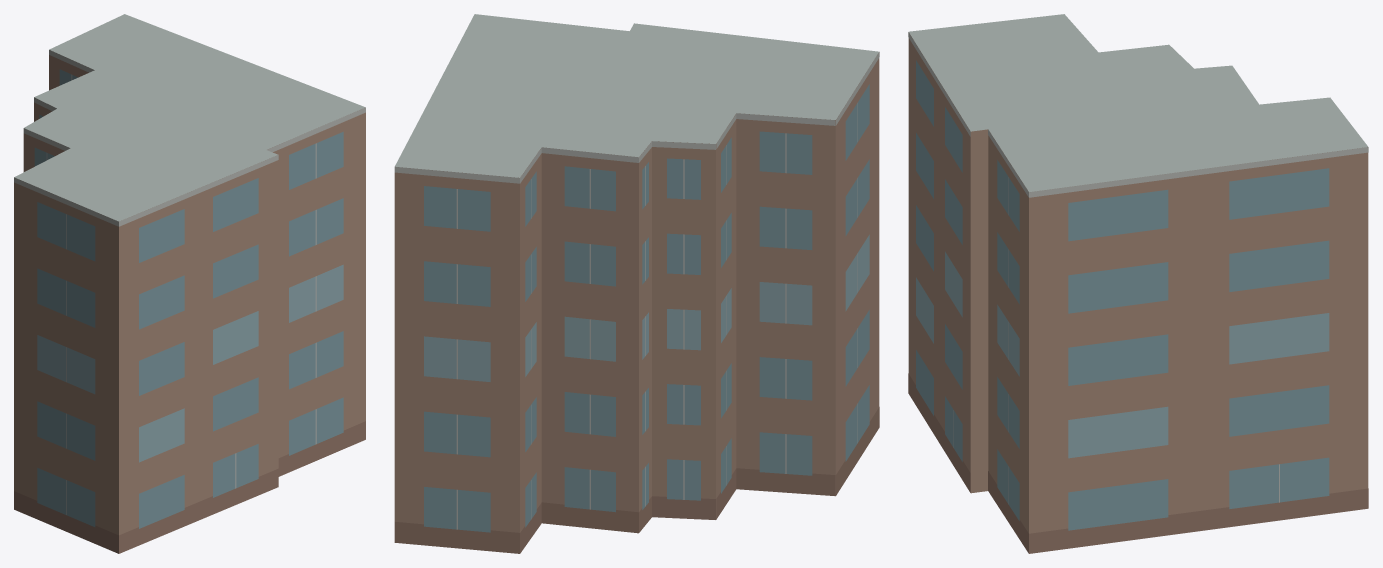
File: survey-upis-32906699.glb
3 views of the same model, side by side, from view 1: azimuth 30°, elevation 25°; view 2: azimuth 150°, elevation 25°; view 3: azimuth 270°, elevation 25° (orthographic). The views are drawn at different scales.
Visible parts, largest first — view 1: survey-upis-32906699.tmp; view 2: survey-upis-32906699.tmp; view 3: survey-upis-32906699.tmp.
Part boxes in pixels (x1=…): survey-upis-32906699.tmp: x1=14, y1=14, x2=365, y2=553; survey-upis-32906699.tmp: x1=394, y1=14, x2=879, y2=553; survey-upis-32906699.tmp: x1=908, y1=14, x2=1368, y2=553.
Bounding box in the file's own units: 16.65 × 15.75 × 18.17.
